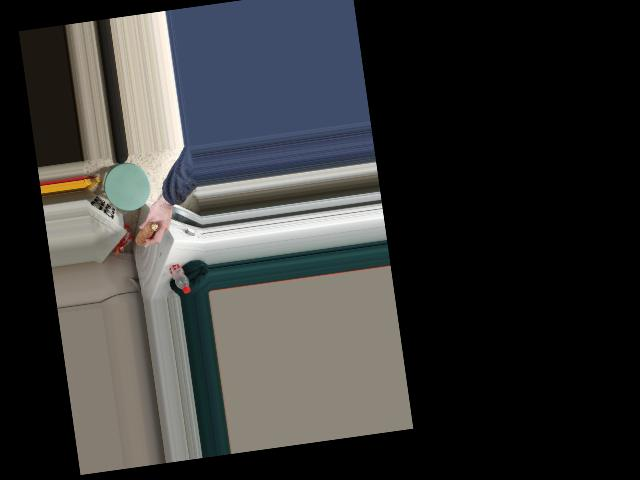sweet_potato: (133, 217, 163, 249)
